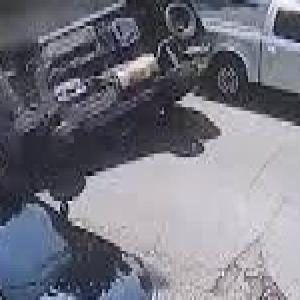critical: (0, 0, 218, 171)
